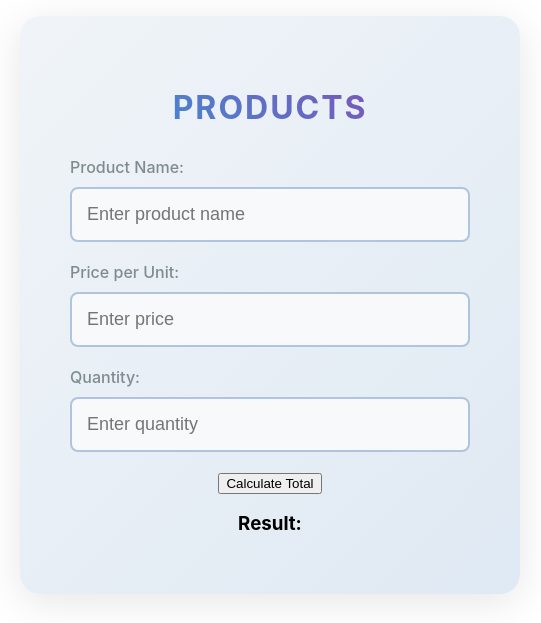
Test: ProductDetails Component › calculates total amount correctly
Step 1. Type "50" into the number field with placeholder "Enter price" → (270,319), box [70,292,470,346]
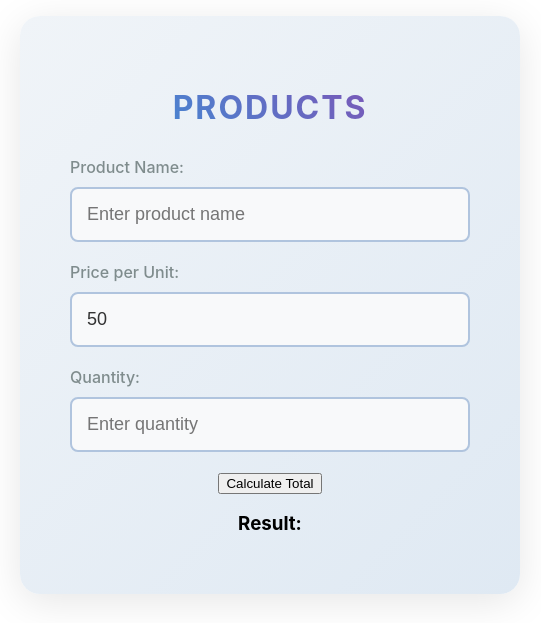
Step 2. Type "3" into the number field with placeholder "Enter quantity" → (270,424), box [70,396,470,452]
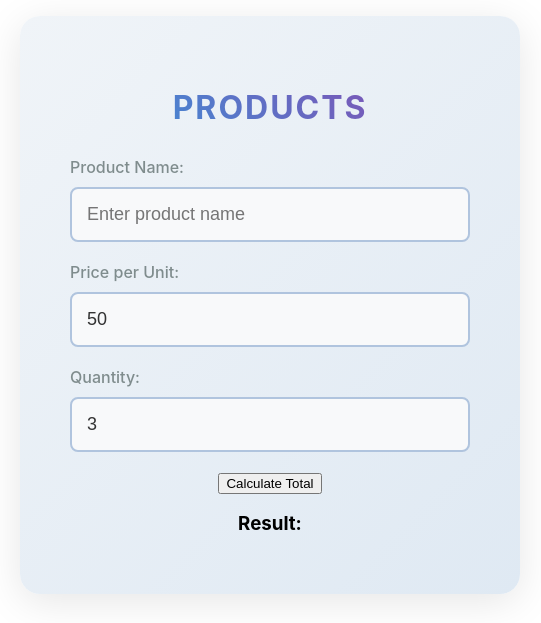
Step 3. Click the button "Calculate Total" → (270,483), box [218,472,322,494]
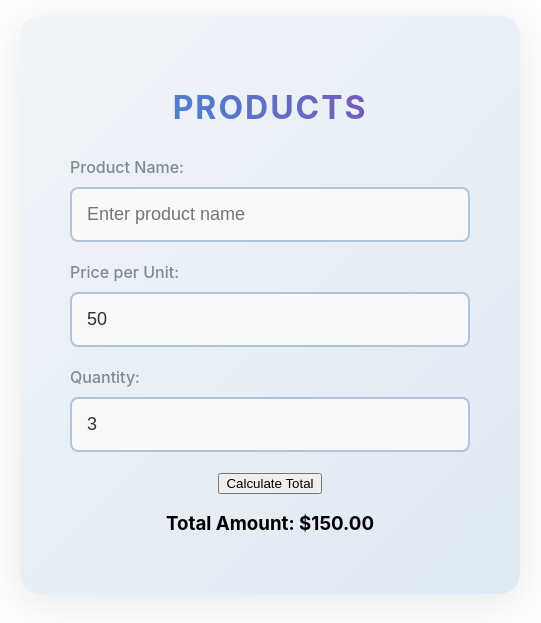
Check: the heading "Total Amount: $150.00" is shown, box [166,512,374,535]
